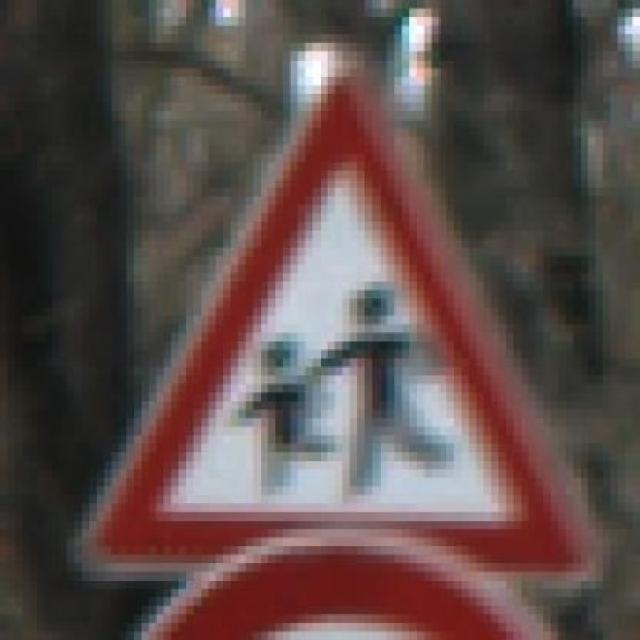Beware of children: (67, 59, 596, 598)
